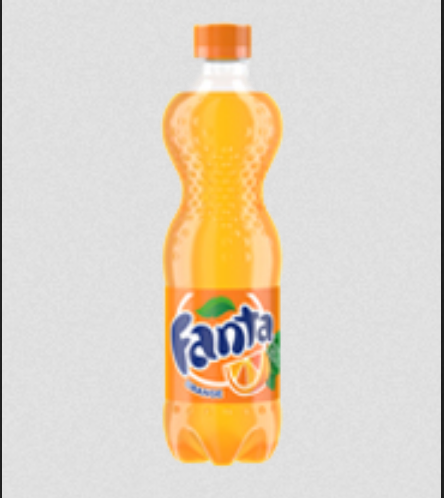Fanta: (138, 14, 298, 487)
